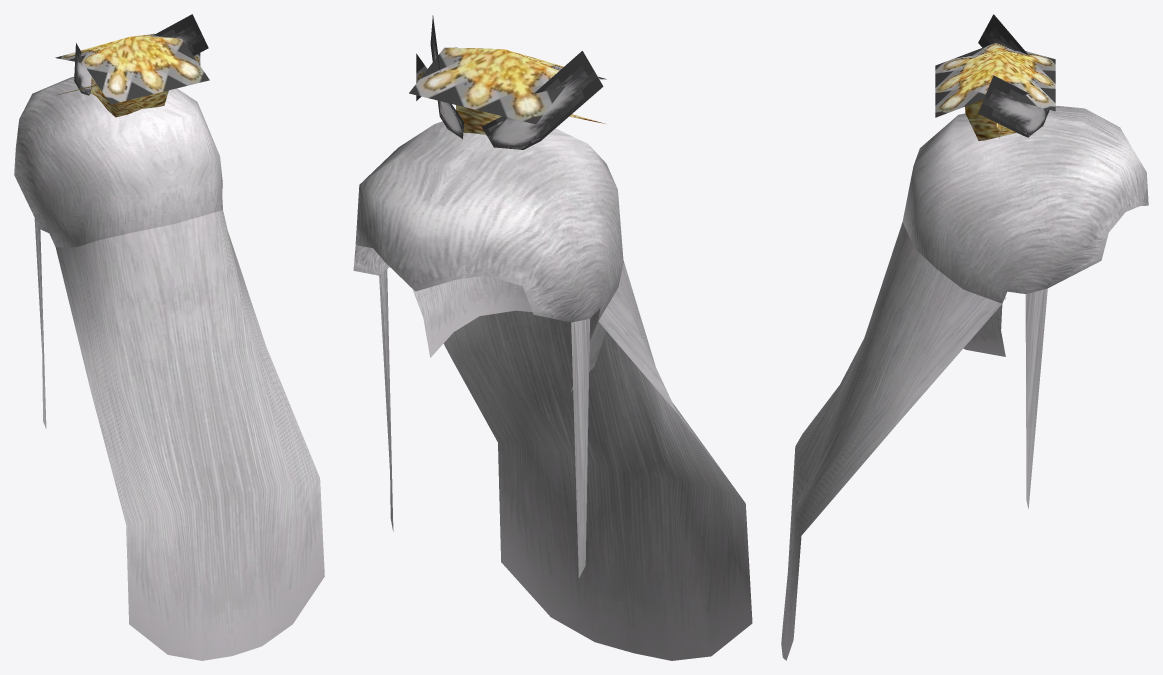
File: Martial arts male hair 51.glb
3 views of the same model, side by side, from view 1: azimuth 30°, elevation 25°; view 2: azimuth 150°, elevation 25°; view 3: azimuth 270°, elevation 25° (orthographic). The views are drawn at different scales.
Parts seen in each view (by area): view 1: 武侠男头发40_0, 武侠男头发40_1; view 2: 武侠男头发40_0, 武侠男头发40_1; view 3: 武侠男头发40_0, 武侠男头发40_1.
Part boxes in pixels (x1,y1,x2,y2): 武侠男头发40_0: (14,76,324,660); 武侠男头发40_1: (55,14,209,117); 武侠男头发40_0: (353,121,752,660); 武侠男头发40_1: (409,15,606,149); 武侠男头发40_0: (781,106,1148,660); 武侠男头发40_1: (935,14,1055,140).
Size of the model in its own units: 0.1923 by 0.5215 by 0.2898.
2 materials, 2 textured.
